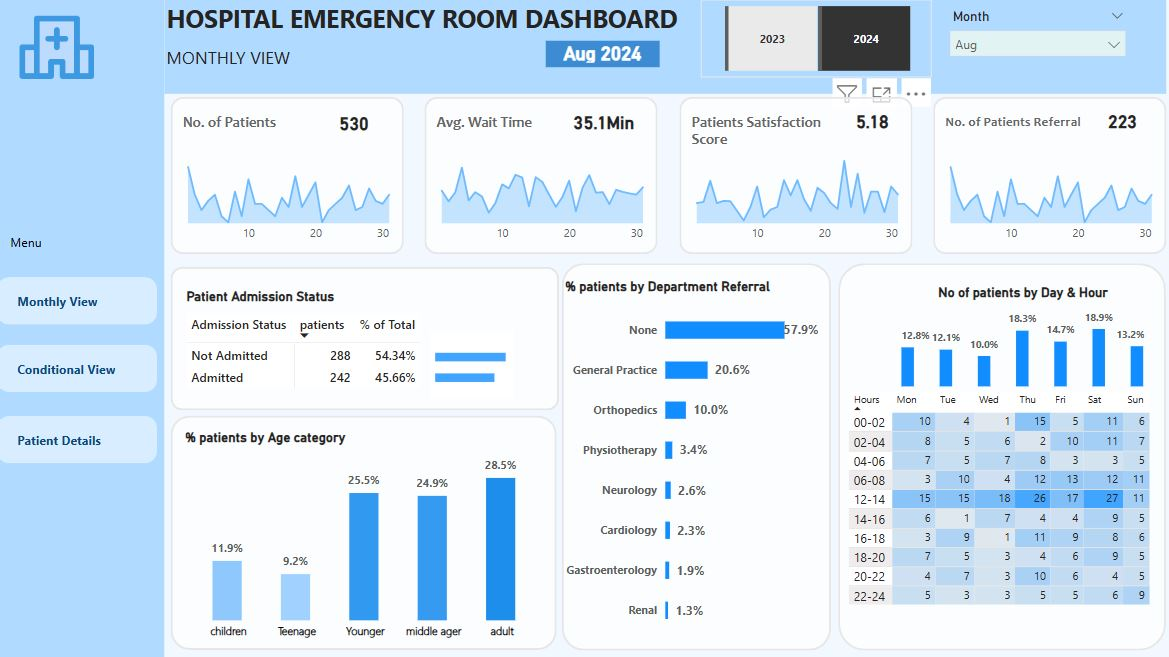

The page's visual inventory and layout, read from the dashboard file:
{"tool":"powerbi","page":{"name":"Monthly View","canvas":[1280,720],"ordinal":0},"visuals":[{"type":"shape","box":[182.2,0,1090.3,105.4],"z":0},{"type":"textbox","box":[179.5,0,1242.5,48.1],"z":1000},{"type":"textbox","box":[179.5,48.1,303.2,57.2],"z":2000},{"type":"shape","box":[188.7,109.3,253.9,171.3],"z":2000,"group":"g6"},{"type":"shape","box":[465.4,109.3,253.9,171.3],"z":2000,"group":"g7"},{"type":"shape","box":[742,109.3,253.9,171.3],"z":2000,"group":"g8"},{"type":"shape","box":[1018.7,109.5,253.9,171.3],"z":2000,"group":"g9"},{"type":"card","fields":{"Values":["Min(Data Table.Month & Year)"]},"box":[597.2,48.1,123.6,28.6],"z":3000},{"type":"group","id":"g1","title":"Group 3","box":[188.7,455.4,420.2,253.7],"z":4000},{"type":"group","id":"g2","title":"Group 5","box":[614.1,290.1,294,421.6],"z":5000},{"type":"slicer","fields":{"Values":["Data Table.Year"]},"box":[766.1,2.4,252.1,84.5],"z":6000},{"type":"card","fields":{"Values":["Hospital ER_Data.Avg. Wait time"]},"box":[614.6,117.1,91.7,40.3],"z":6000,"group":"g7"},{"type":"card","fields":{"Values":["Hospital ER_Data.Avg Satisfaction Score"]},"box":[915.9,117.1,71,39],"z":6000,"group":"g8"},{"type":"card","fields":{"Values":["Hospital ER_Data.No of patients"]},"box":[349.6,121,77.5,33.8],"z":6000,"group":"g6"},{"type":"card","fields":{"Values":["Hospital ER_Data.No.of patientsReferral"]},"box":[1186.1,121,77.5,33.8],"z":6000,"group":"g9"},{"type":"shape","box":[0,0,182.2,719.5],"z":7000},{"type":"textbox","box":[750.5,121,161.5,59.8],"z":8000,"group":"g8"},{"type":"textbox","box":[197.2,122,162.4,35.2],"z":8000,"group":"g6"},{"type":"textbox","box":[473.9,122,162.4,35.2],"z":8000,"group":"g7"},{"type":"textbox","box":[1027.2,122.2,162.4,35.2],"z":8000,"group":"g9"},{"type":"group","id":"g3","title":"Group 7","box":[188.7,294,422.9,156.1],"z":8000},{"type":"group","id":"g4","title":"Group 1","box":[916,290.1,356.5,421.6],"z":9000},{"type":"group","id":"g5","title":"Group 2","box":[188.7,109.3,1083.8,171.7],"z":10000},{"type":"areaChart","fields":{"Y":["Hospital ER_Data.No of patients"],"Category":["Data Table.Date.Variation.Date Hierarchy.Day"]},"box":[192.3,164.8,242,111],"z":10000,"group":"g6"},{"type":"areaChart","fields":{"Category":["Data Table.Date.Variation.Date Hierarchy.Day"],"Y":["Avg(Hospital ER_Data.Patient Waittime)"]},"box":[469,164.8,242,111],"z":10000,"group":"g7"},{"type":"areaChart","fields":{"Category":["Data Table.Date.Variation.Date Hierarchy.Day"],"Y":["Avg(Hospital ER_Data.Patient Satisfaction Score)"]},"box":[745.6,164.8,242,111],"z":10000,"group":"g8"},{"type":"areaChart","fields":{"Y":["Hospital ER_Data.No of patients"],"Category":["Data Table.Date.Variation.Date Hierarchy.Day"]},"box":[1022.3,165,242,111],"z":10000,"group":"g9"},{"type":"slicer","fields":{"Values":["Data Table.Month"]},"box":[1026.7,8.4,211.1,72.4],"z":11000},{"type":"shape","box":[916,290.1,356.5,421.6],"z":11000,"group":"g4"},{"type":"group","id":"g6","title":"Group 6","box":[188.7,109.3,253.9,171.3],"z":12000,"group":"g5"},{"type":"shape","box":[188.7,294,422.9,156.1],"z":12000,"group":"g3"},{"type":"actionButton","box":[0,304.5,174.3,52],"z":12000},{"type":"clusteredColumnChart","title":"No of patients by Day & Hour","fields":{"Y":["Hospital ER_Data.No of patients"],"Category":["Hospital ER_Data.day name short"]},"box":[979.9,313.5,274.5,117.1],"z":12000,"group":"g4"},{"type":"pivotTable","title":"Patient Admission Status","fields":{"Rows":["Hospital ER_Data.Admission Status"],"Values":["Hospital ER_Data.No of patients","Divide(Hospital ER_Data.No of patients, ScopedEval(Hospital ER_Data.No of patients, []))"]},"box":[200.8,317.4,278.8,124.9],"z":13000,"group":"g3"},{"type":"actionButton","box":[0,378.6,174.3,52],"z":13000},{"type":"group","id":"g7","title":"Group 6","box":[465.4,109.3,253.9,171.3],"z":14000,"group":"g5"},{"type":"barChart","fields":{"Category":["Hospital ER_Data.Admission Status"],"Y":["Hospital ER_Data.No of patients"]},"box":[472.2,363.6,90.1,74.2],"z":14000,"group":"g3"},{"type":"pivotTable","fields":{"Rows":["Hospital ER_Data.hour grp"],"Columns":["Hospital ER_Data.day name short"],"Values":["Hospital ER_Data.No of patients"]},"box":[922.7,425.3,342.2,277.1],"z":14000,"group":"g4"},{"type":"actionButton","box":[0,455.4,174.3,52],"z":14000},{"type":"group","id":"g8","title":"Group 6","box":[742,109.3,253.9,171.3],"z":15000,"group":"g5"},{"type":"textbox","box":[9.1,252.4,70.3,37.7],"z":15000},{"type":"image","box":[9.7,0,111,109.8],"z":16000},{"type":"group","id":"g9","title":"Group 6","box":[1018.7,109.5,253.9,171.3],"z":16000,"group":"g5"},{"type":"shape","box":[188.7,455.4,420.2,255],"z":17000,"group":"g1"},{"type":"clusteredColumnChart","title":"% patients by Age category","fields":{"Category":["Hospital ER_Data.Age category"],"Y":["Hospital ER_Data.No of patients"]},"box":[199,470.9,402.3,237.9],"z":18000,"group":"g1"},{"type":"shape","box":[615.2,290.1,292.7,421.6],"z":20000,"group":"g2"},{"type":"barChart","title":"% patients by Department Referral","fields":{"Y":["Hospital ER_Data.No of patients1"],"Category":["Hospital ER_Data.Department Referral"]},"box":[614.1,307.1,286,394.7],"z":21000,"group":"g2"}]}

Visuals, with their boxes in screenshot pixels (x1, y1, x2, y2), scaled from the page's 1280x720 canvas onto the 1169x657 screenshot:
shape: 166/0/1162/96
textbox: 164/0/1168/44
textbox: 164/44/441/96
shape: 172/100/404/256
shape: 425/100/657/256
shape: 678/100/910/256
shape: 930/100/1162/256
card - Min(Data Table.Month & Year): 545/44/658/70
"Group 3" group: 172/416/556/647
"Group 5" group: 561/265/829/649
slicer - Data Table.Year: 700/2/930/79
card - Hospital ER_Data.Avg. Wait time: 561/107/645/144
card - Hospital ER_Data.Avg Satisfaction Score: 836/107/901/142
card - Hospital ER_Data.No of patients: 319/110/390/141
card - Hospital ER_Data.No.of patientsReferral: 1083/110/1154/141
shape: 0/0/166/656
textbox: 685/110/833/165
textbox: 180/111/328/143
textbox: 433/111/581/143
textbox: 938/112/1086/144
"Group 7" group: 172/268/559/411
"Group 1" group: 837/265/1162/649
"Group 2" group: 172/100/1162/256
areaChart - Hospital ER_Data.No of patients x Data Table.Date.Variation.Date Hierarchy.Day: 176/150/397/252
areaChart - Data Table.Date.Variation.Date Hierarchy.Day x Avg(Hospital ER_Data.Patient Waittime): 428/150/649/252
areaChart - Data Table.Date.Variation.Date Hierarchy.Day x Avg(Hospital ER_Data.Patient Satisfaction Score): 681/150/902/252
areaChart - Hospital ER_Data.No of patients x Data Table.Date.Variation.Date Hierarchy.Day: 934/151/1155/252
slicer - Data Table.Month: 938/8/1130/74
shape: 837/265/1162/649
"Group 6" group: 172/100/404/256
shape: 172/268/559/411
actionButton: 0/278/159/325
"No of patients by Day & Hour" clusteredColumnChart: 895/286/1146/393
"Patient Admission Status" pivotTable: 183/290/438/404
actionButton: 0/345/159/393
"Group 6" group: 425/100/657/256
barChart - Hospital ER_Data.Admission Status x Hospital ER_Data.No of patients: 431/332/514/399
pivotTable - Hospital ER_Data.hour grp x Hospital ER_Data.day name short: 843/388/1155/641
actionButton: 0/416/159/463
"Group 6" group: 678/100/910/256
textbox: 8/230/73/265
image: 9/0/110/100
"Group 6" group: 930/100/1162/256
shape: 172/416/556/648
"% patients by Age category" clusteredColumnChart: 182/430/549/647
shape: 562/265/829/649
"% patients by Department Referral" barChart: 561/280/822/640
